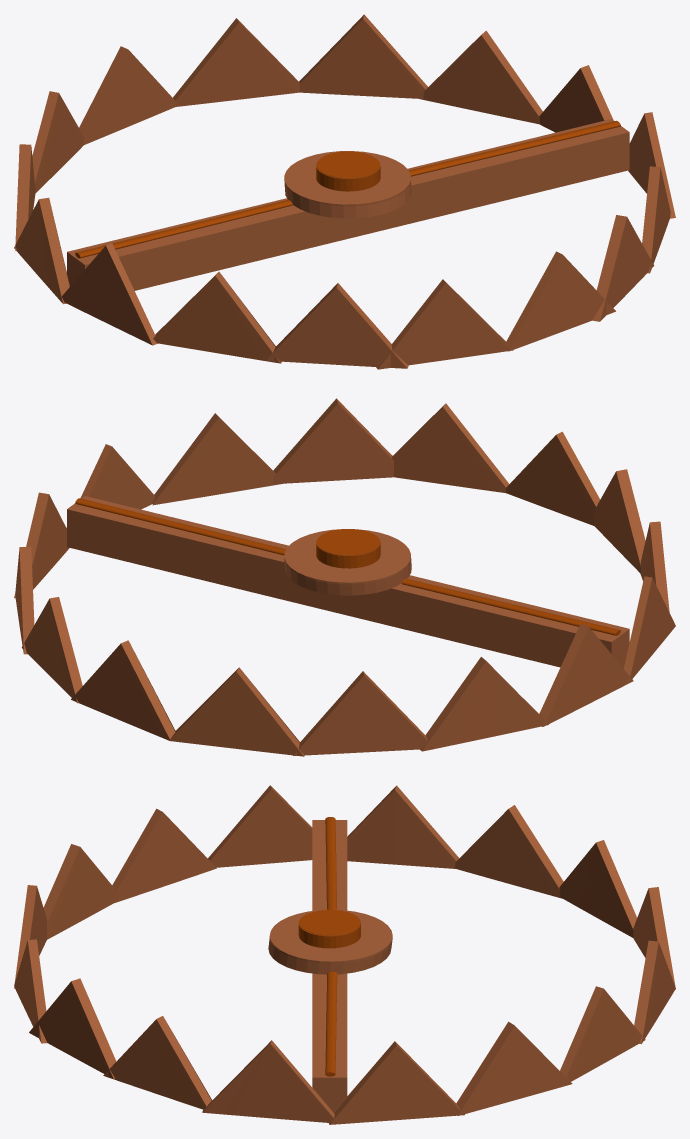
File: beartrap.fbx
3 views of the same model, one above another, from view 1: azimuth 30°, elevation 25°; view 2: azimuth 150°, elevation 25°; view 3: azimuth 270°, elevation 25° (orthographic). The views are drawn at different scales.
Visible parts, largest first — view 1: Circle; view 2: Circle; view 3: Circle.
Boxes of the visible parts, left/top/right/bottom form: Circle: left=14, top=14, right=675, bottom=369; Circle: left=14, top=398, right=675, bottom=756; Circle: left=14, top=785, right=675, bottom=1124.
Bounding box in the file's own units: 210 × 28.2 × 218.
